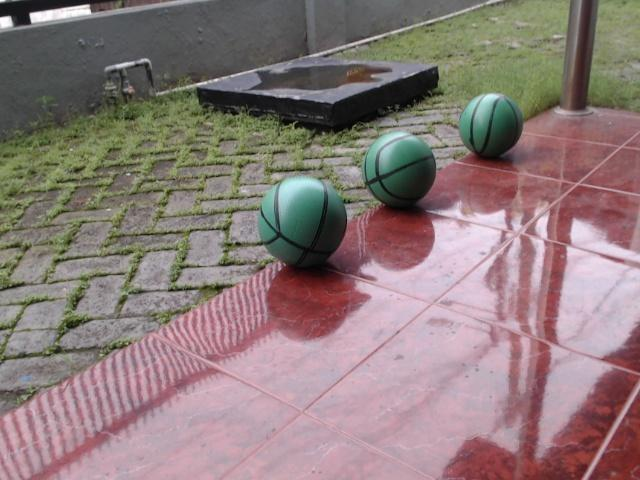Sports-Ball: (258, 173, 347, 268), (360, 132, 436, 205), (456, 85, 524, 160)
